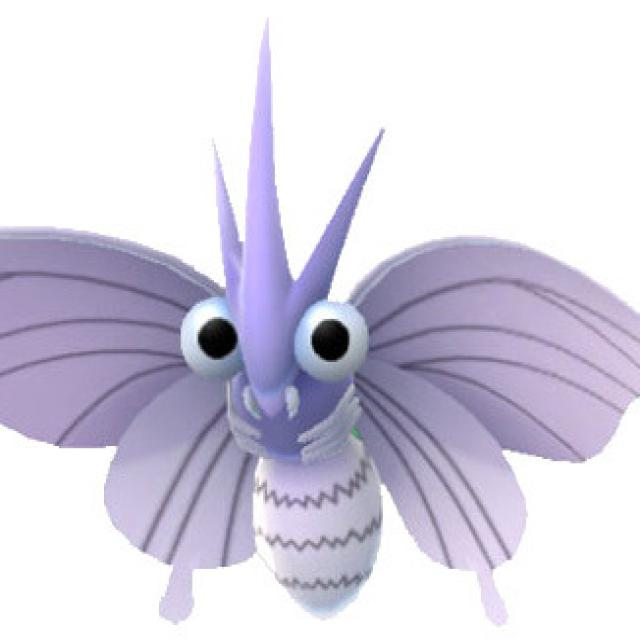Venomoth: (92, 168, 534, 573)
